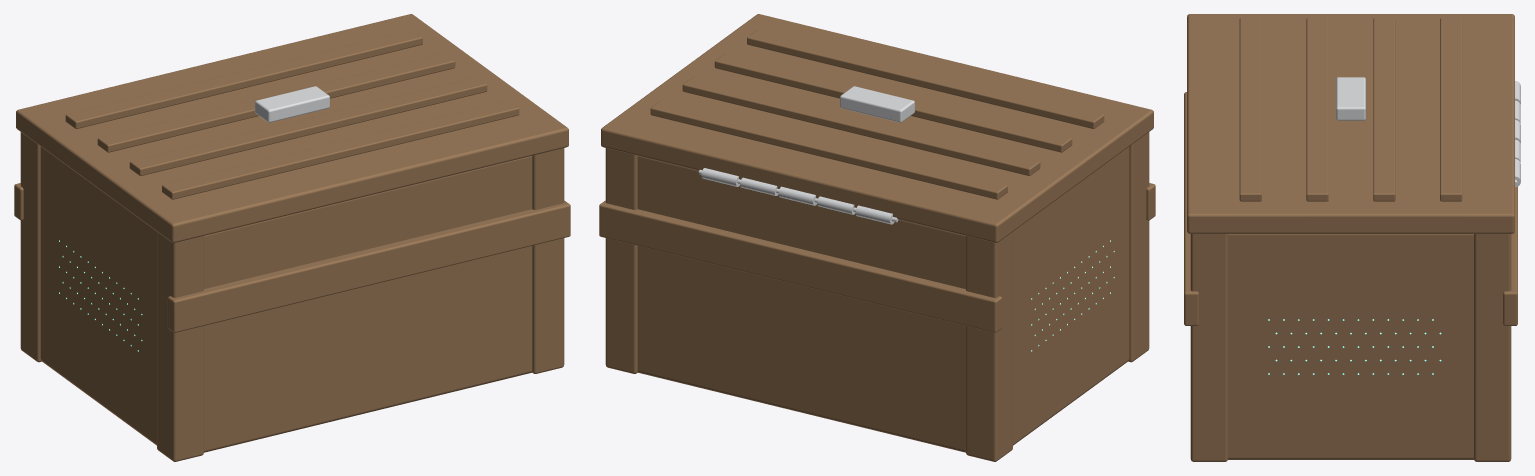
The model's file is crate.glb.
The picture shows the model from 3 angles, left to right: view 1: azimuth 30°, elevation 25°; view 2: azimuth 150°, elevation 25°; view 3: azimuth 270°, elevation 25°; orthographic projection. The views are drawn at different scales.
Parts seen in each view (by area): view 1: ammo-crate, lid/walnut, lid/steelBright; view 2: ammo-crate, lid/walnut, lid/steelBright; view 3: ammo-crate, lid/walnut, lid/steelBright.
Boxes of the visible parts, <box> form: ammo-crate: <box>14,132,570,461</box>; lid/walnut: <box>16,14,568,242</box>; lid/steelBright: <box>255,86,329,122</box>; ammo-crate: <box>599,132,1155,461</box>; lid/walnut: <box>601,14,1153,242</box>; lid/steelBright: <box>840,86,914,122</box>; ammo-crate: <box>1184,81,1520,461</box>; lid/walnut: <box>1187,14,1514,233</box>; lid/steelBright: <box>1336,77,1365,120</box>.
Bounding box in the file's own units: 0.64 × 0.402 × 0.452.
